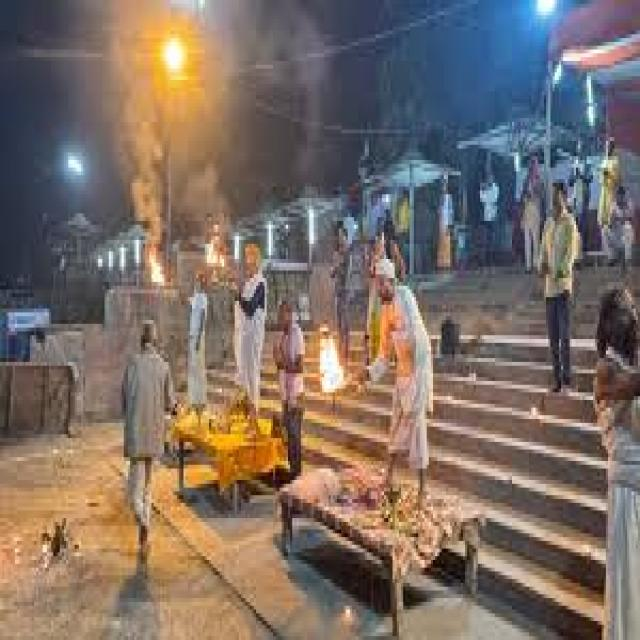fire: (320, 321, 344, 394)
